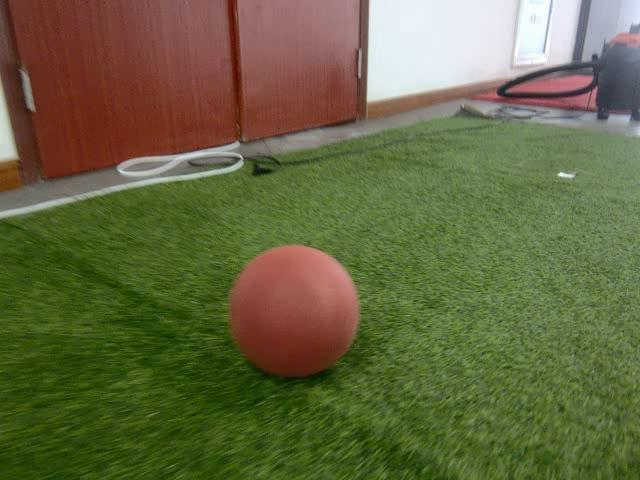red_ball: (228, 245, 360, 381)
